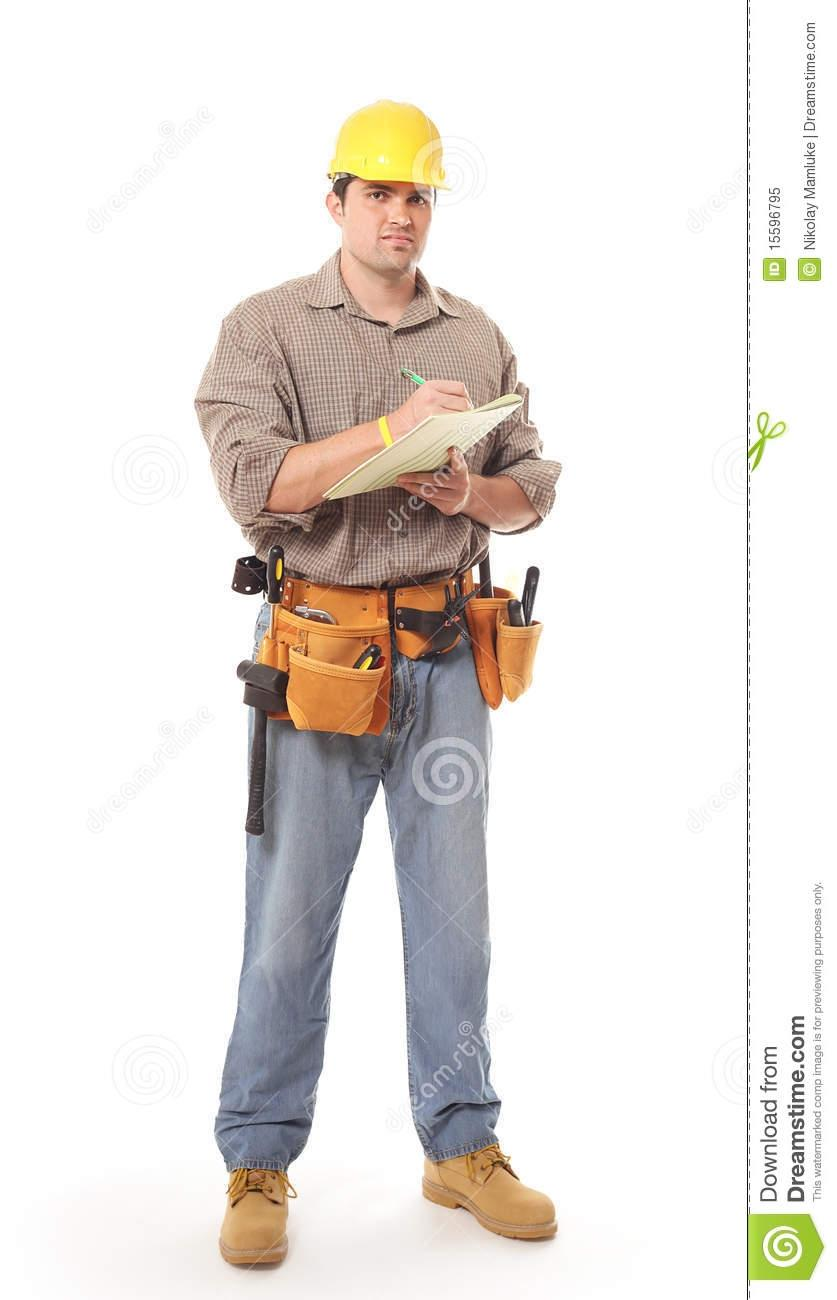helmet: (326, 96, 452, 202)
no_wear: (233, 287, 507, 578)
